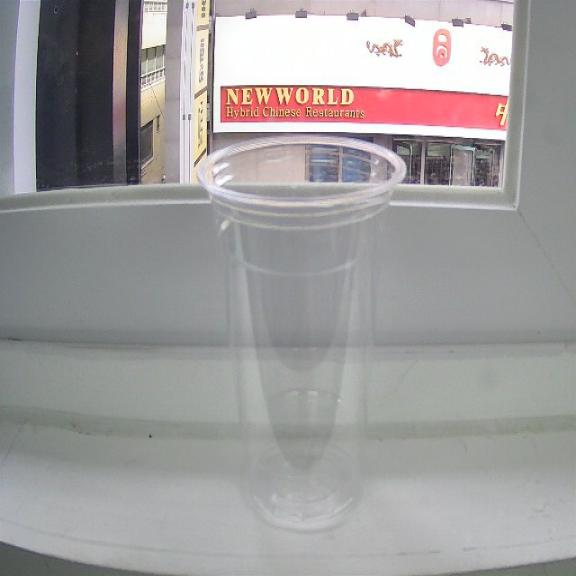Plastik: (198, 136, 405, 529)
